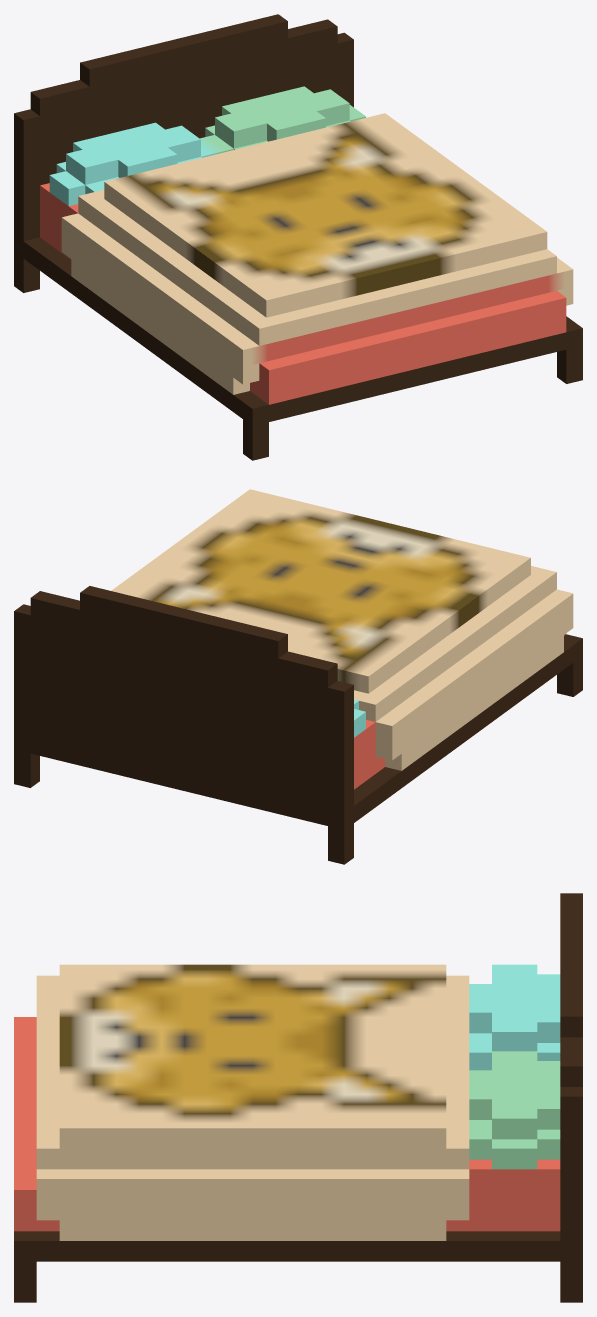
File: Bed.fbx
The picture shows the model from 3 angles, top to bottom: view 1: azimuth 30°, elevation 25°; view 2: azimuth 150°, elevation 25°; view 3: azimuth 270°, elevation 25°; orthographic projection. The views are drawn at different scales.
Visible parts, largest first — view 1: Bed; view 2: Bed; view 3: Bed.
Boxes of the visible parts, bbox=[...] form: Bed: bbox=[14, 14, 582, 460]; Bed: bbox=[14, 489, 582, 864]; Bed: bbox=[14, 893, 582, 1302].
Size of the model in its own units: 20 by 12 by 25.
1 material, 1 textured.
